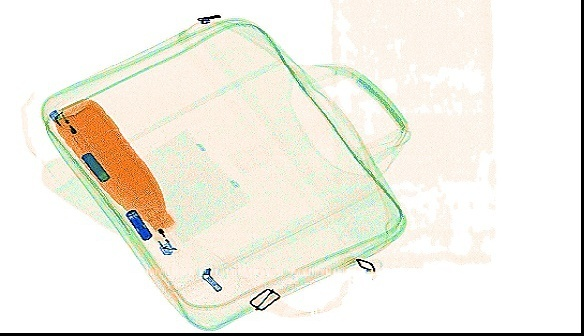lighter: (45, 105, 92, 162), (137, 205, 181, 257)
